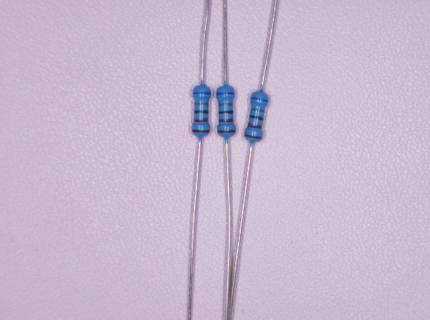Black band: (249, 115, 264, 121), (194, 110, 209, 114), (219, 110, 233, 114)
Blue band: (251, 96, 269, 103), (216, 92, 235, 95), (193, 92, 211, 95)
Brown band: (245, 133, 263, 141), (192, 129, 210, 134), (217, 130, 236, 133)
Grey band: (251, 108, 265, 113), (194, 102, 209, 106), (218, 103, 233, 106)
Red band: (248, 122, 263, 129), (219, 118, 233, 123), (194, 118, 208, 122)
